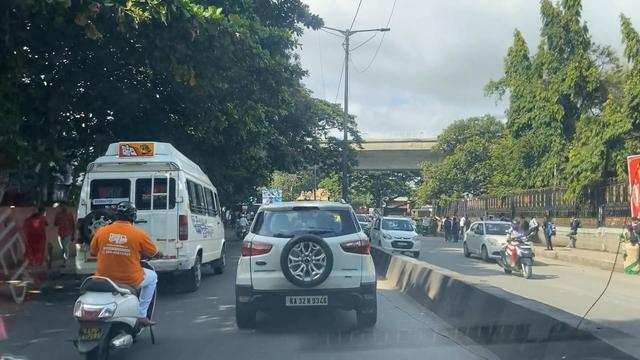HMV: (76, 140, 224, 291)
LMV: (241, 195, 378, 333), (75, 206, 159, 355)
